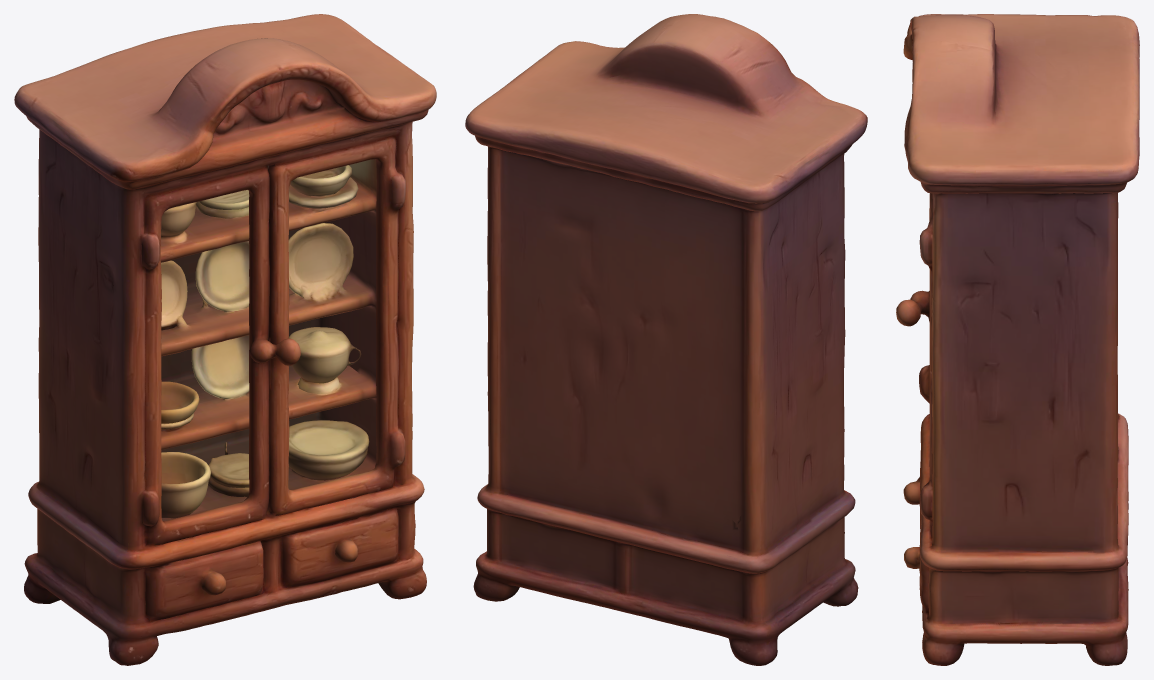
File: Gabinete.fbx
3 views of the same model, side by side, from view 1: azimuth 30°, elevation 25°; view 2: azimuth 150°, elevation 25°; view 3: azimuth 270°, elevation 25° (orthographic). The views are drawn at different scales.
Visible parts, largest first — view 1: tripo_node_b33cd8e8; view 2: tripo_node_b33cd8e8; view 3: tripo_node_b33cd8e8.
Boxes of the visible parts, x1,y1,x2,y2 form: tripo_node_b33cd8e8: (14,14,436,665); tripo_node_b33cd8e8: (465,14,867,665); tripo_node_b33cd8e8: (896,14,1139,665).
Bounding box in the file's own units: 59.82 × 99.96 × 38.82.
1 material, 1 textured.
